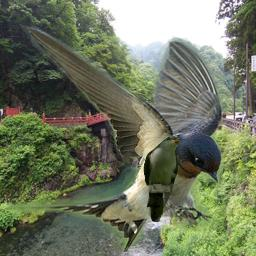Cuckoo: (143, 135, 180, 222)
Swallow: (7, 23, 223, 252)
